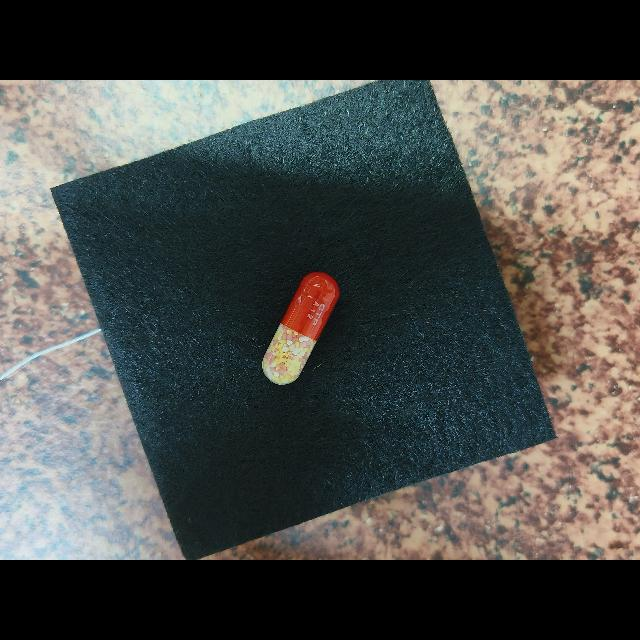Intact Capsule: (262, 272, 339, 385)
